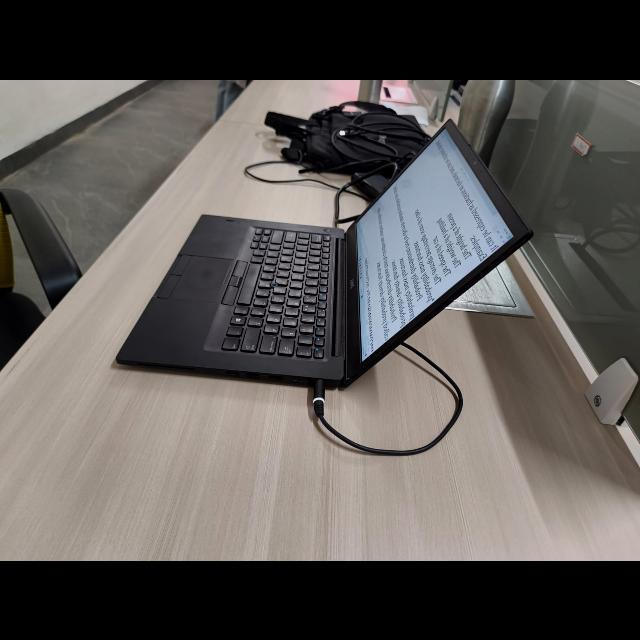laptop: (110, 137, 540, 390)
